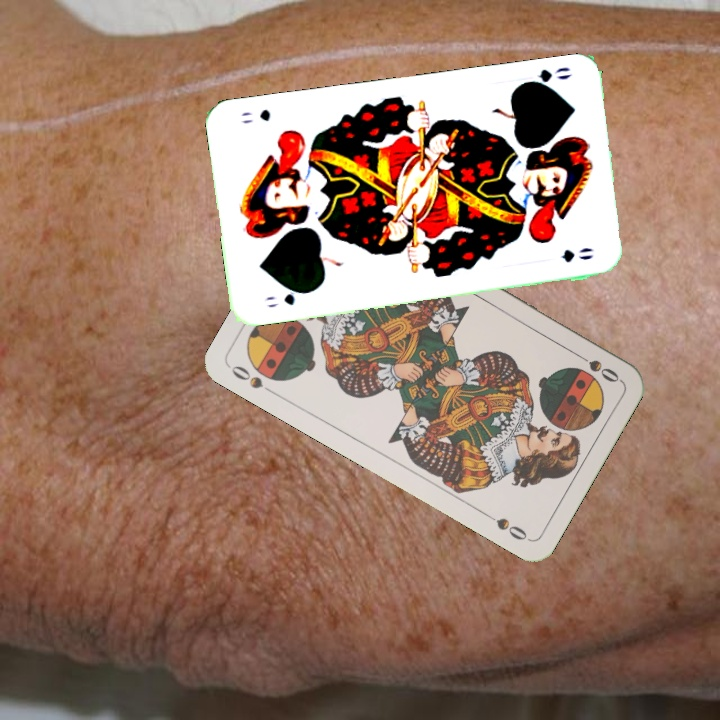GO: (518, 63, 575, 91), (262, 285, 312, 311)
SO: (569, 347, 622, 386), (227, 361, 279, 398)
